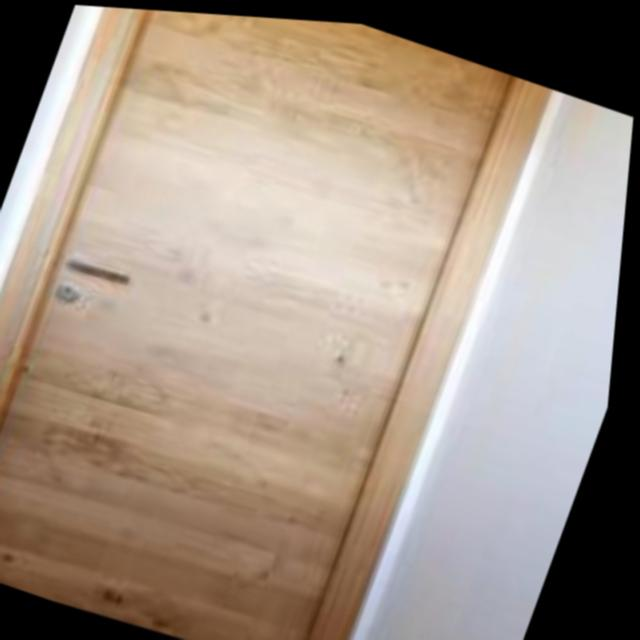door_handle: (50, 231, 152, 303)
